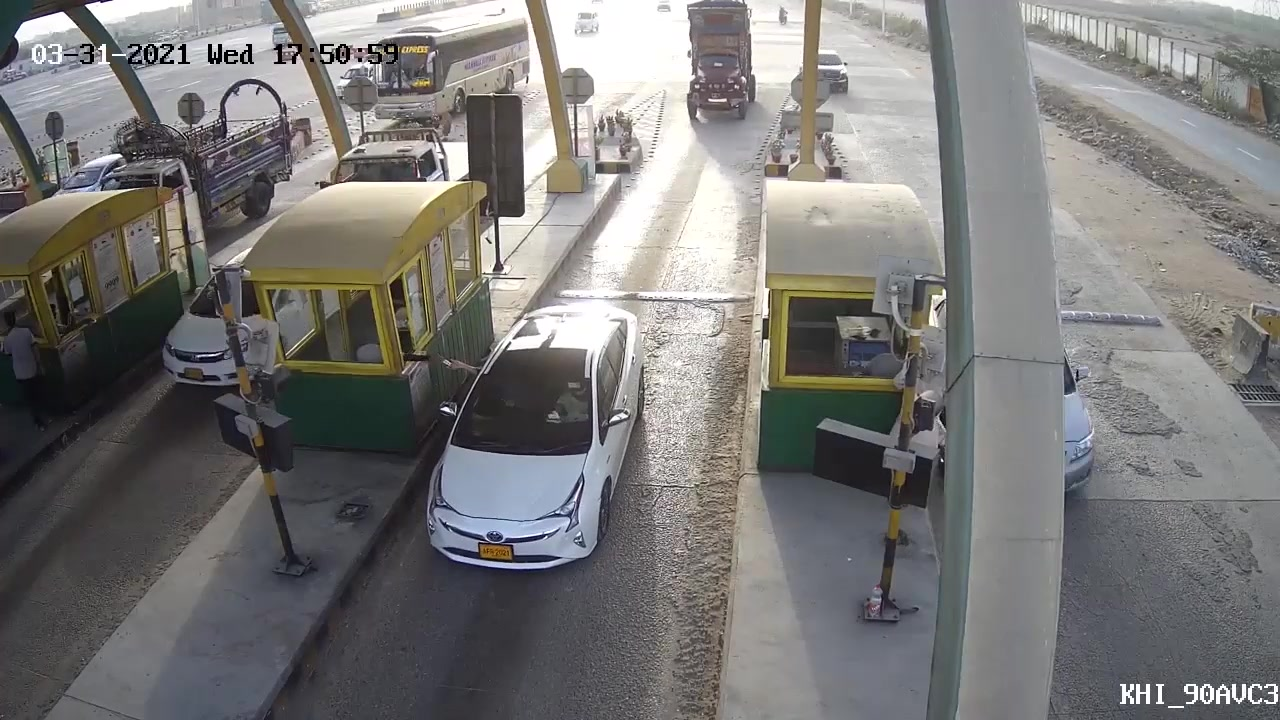F1: (413, 303, 644, 569)
F5: (682, 1, 762, 127)
